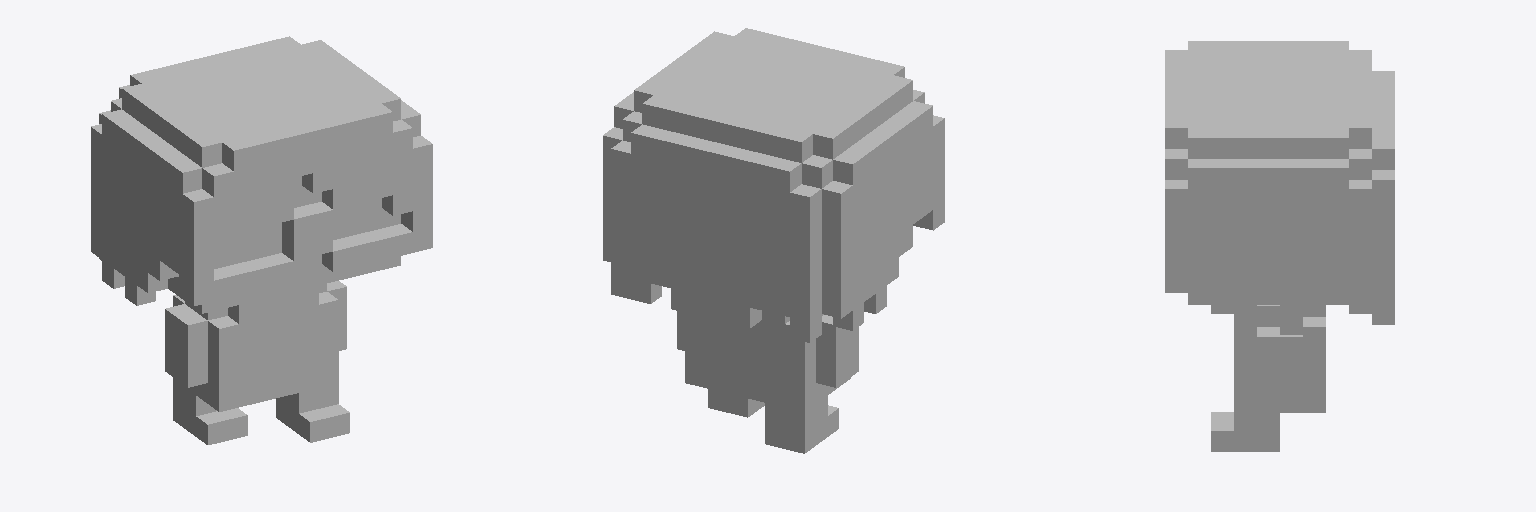
The model's file is vuNew3.obj.
3 renders of one model, left to right at view 1: azimuth 30°, elevation 25°; view 2: azimuth 150°, elevation 25°; view 3: azimuth 270°, elevation 25°, orthographic.
Bounding box in the file's own units: 12 × 16 × 10.